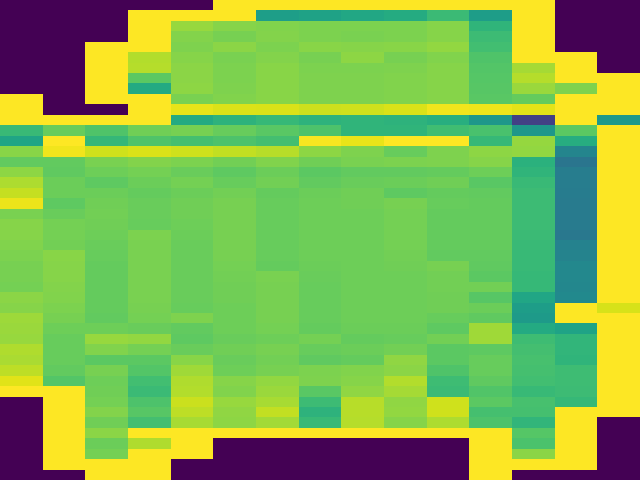car_0027: (1, 2, 640, 470)
